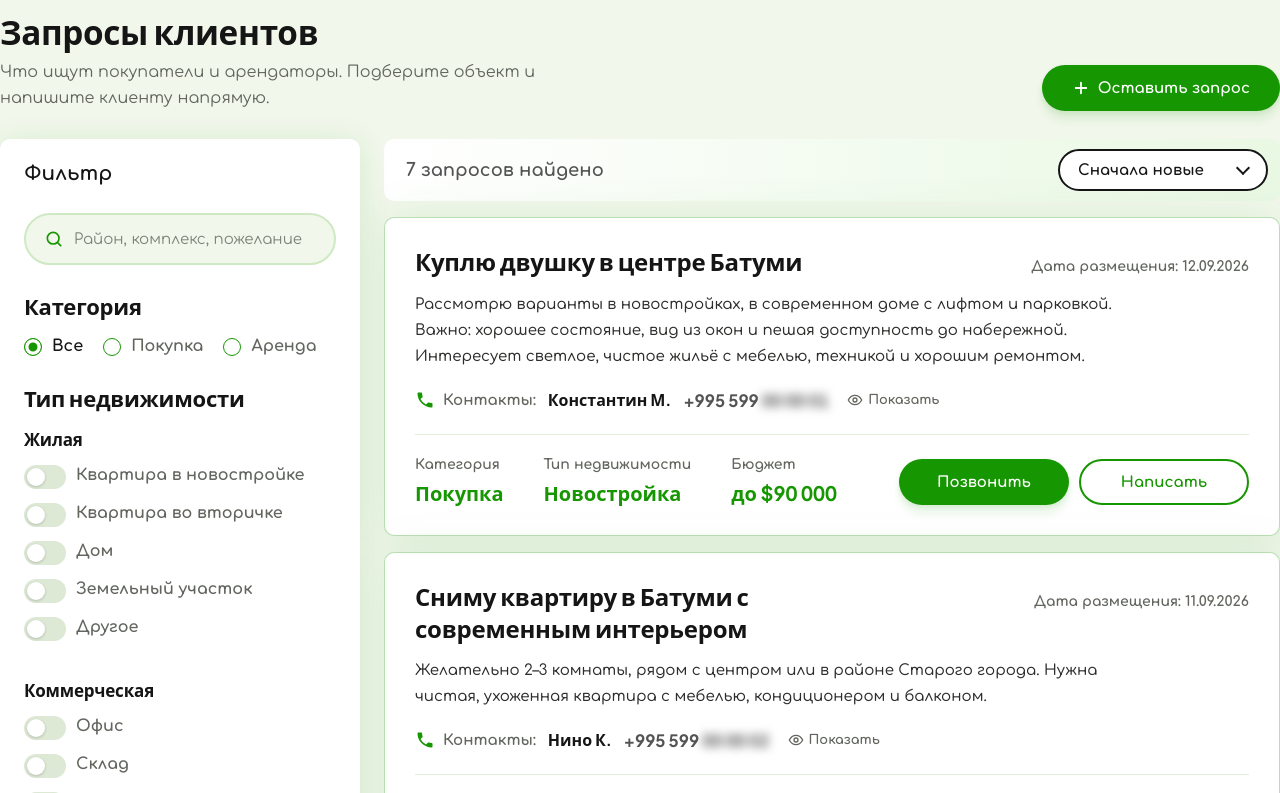
Scenario: Buyer & Tenant Requests Board Acceptance (MKT-SCR-016) › opens the write dialog and sends a message
Step 1. Click the button with test id "offer-btn-req-1" → (1164, 482), box left=1079, top=459, right=1249, bottom=505
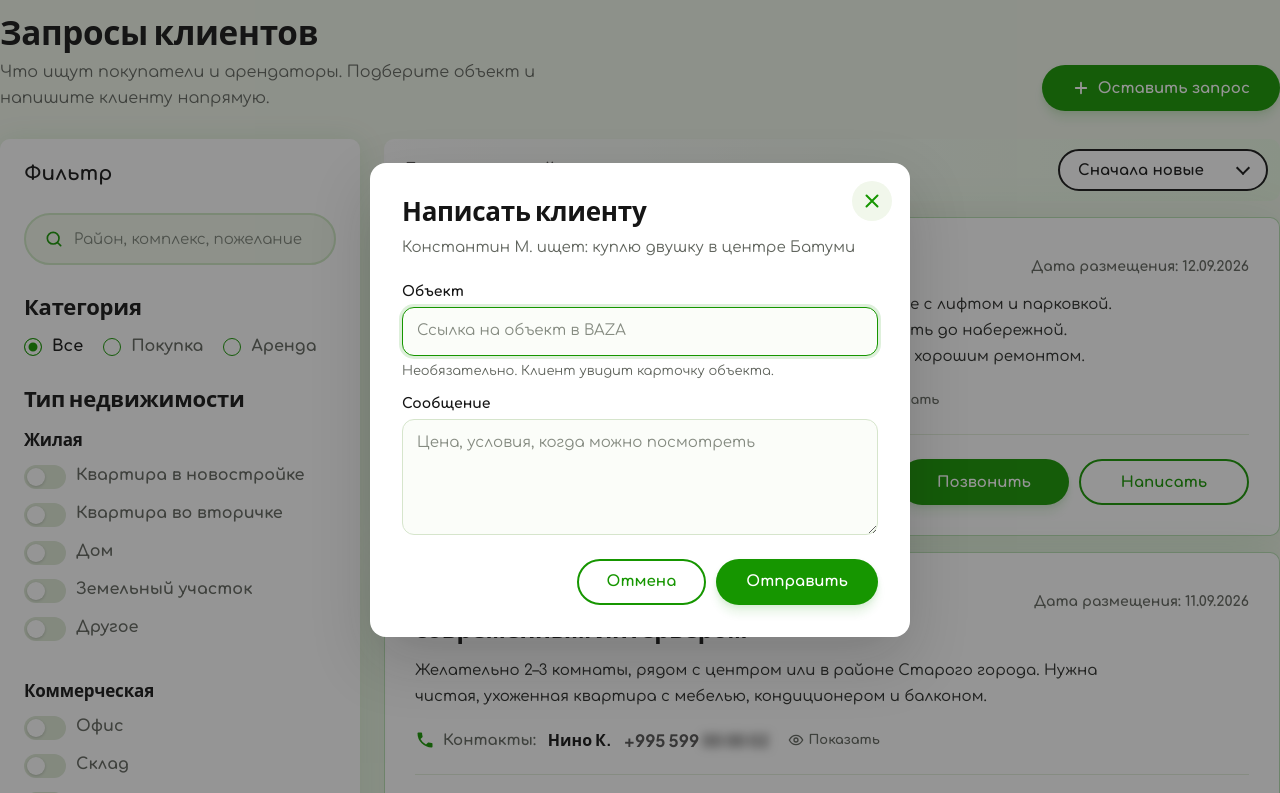
Step 2. Type "https://baza.sale/listings/batumi-flat-sea-view" into the field with placeholder "Ссылка на объект в BAZA" → (640, 332), box left=402, top=307, right=878, bottom=356
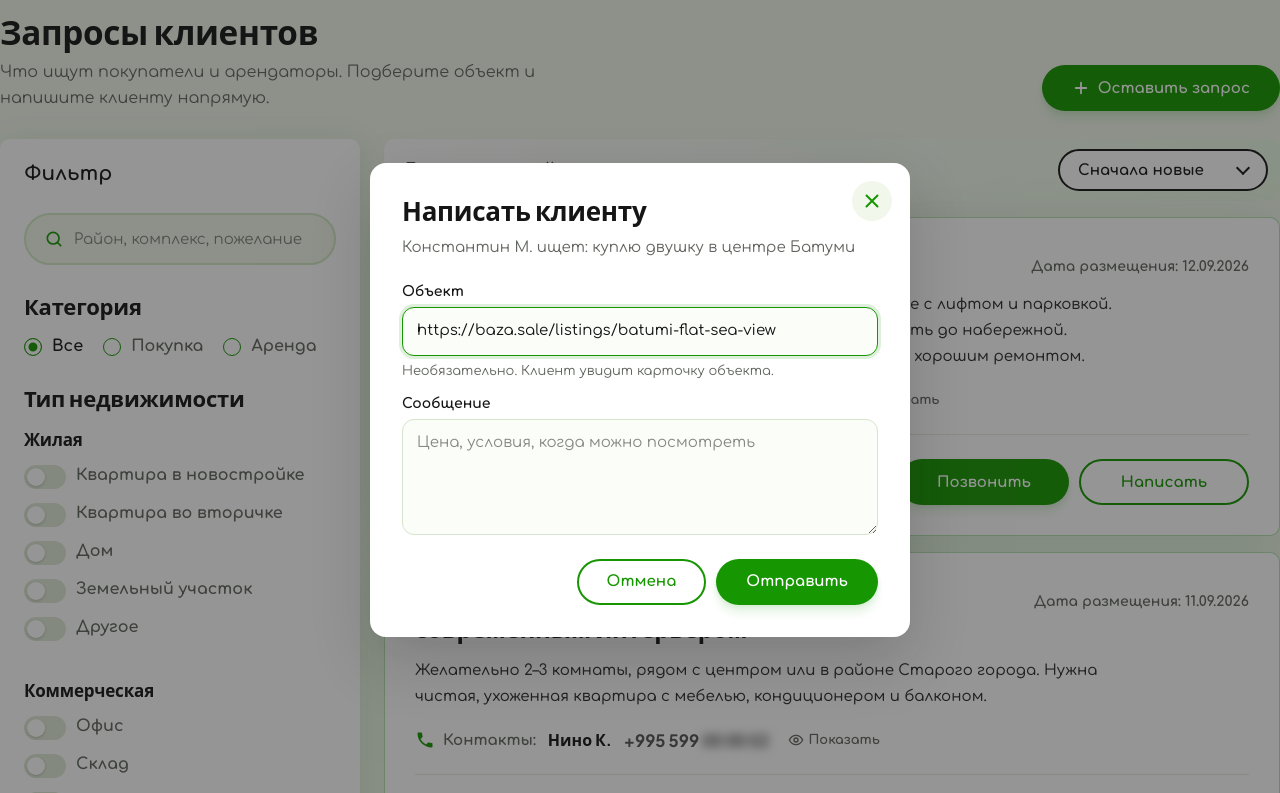
Step 3. Type "Есть вариант у моря" into the text box labelled "Сообщение" → (640, 477), box left=402, top=419, right=878, bottom=535
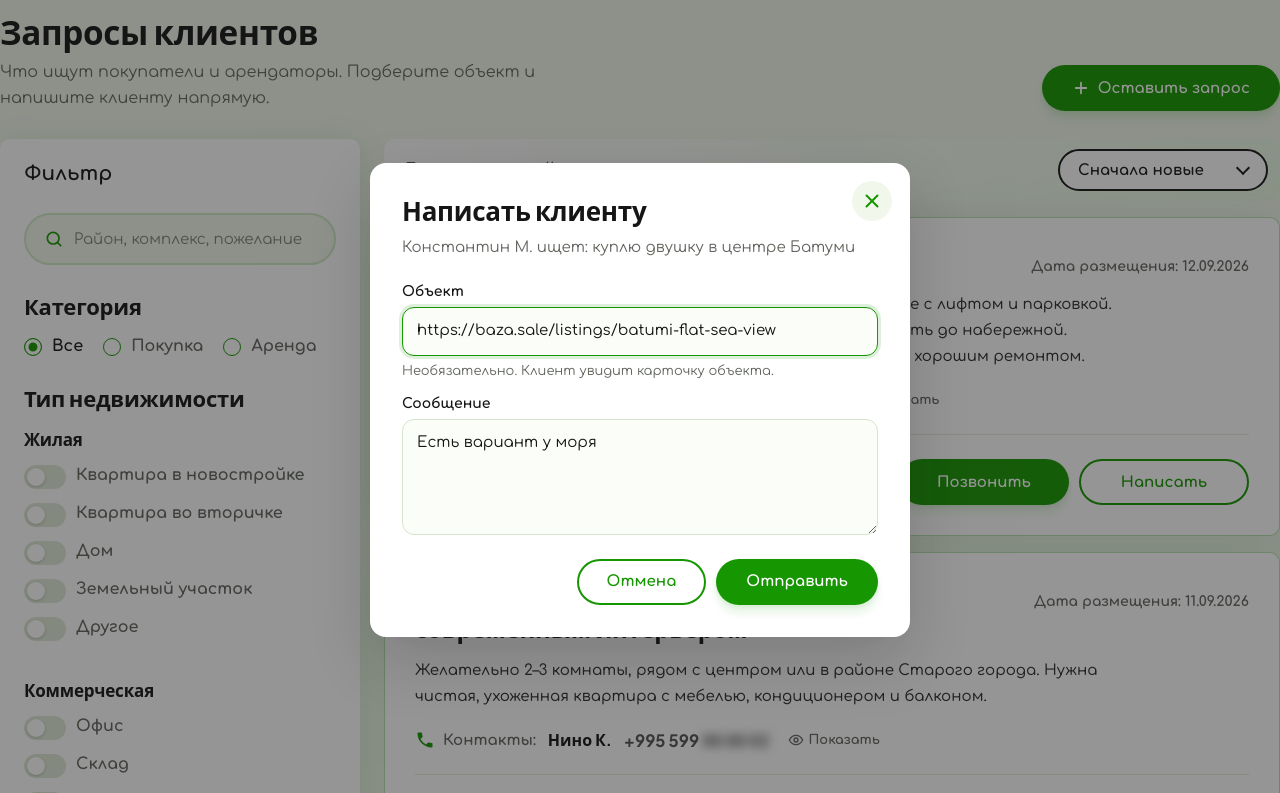
Step 4. Click the button "Отправить" → (797, 582), box left=716, top=559, right=878, bottom=605
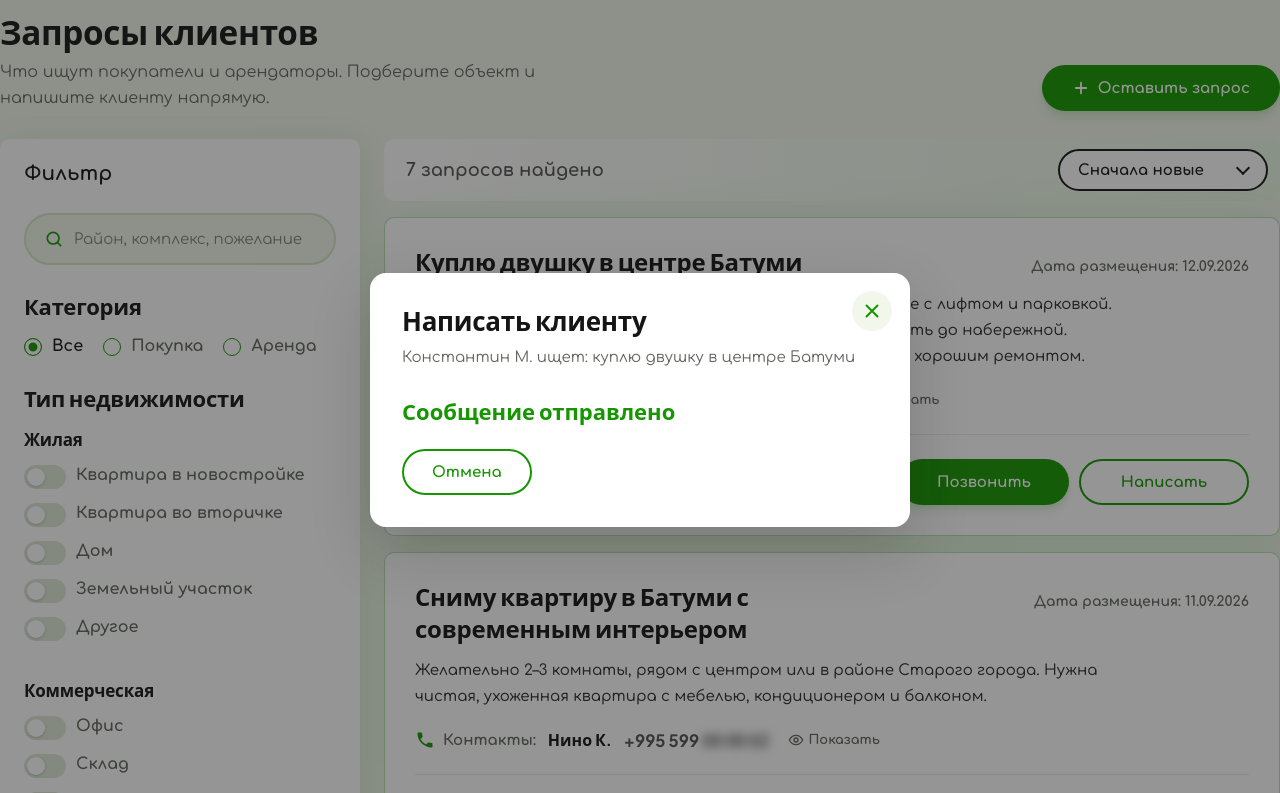
Now the text "Сообщение отправлено" is shown, box left=402, top=394, right=675, bottom=429
